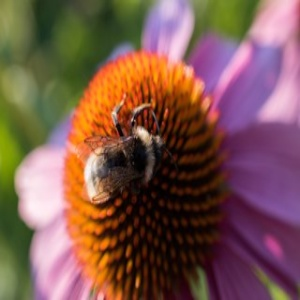bee: (86, 123, 173, 198)
